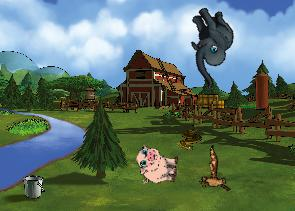eagle: (185, 144, 242, 203)
elephant: (167, 0, 253, 89)
pig: (134, 144, 180, 186)
